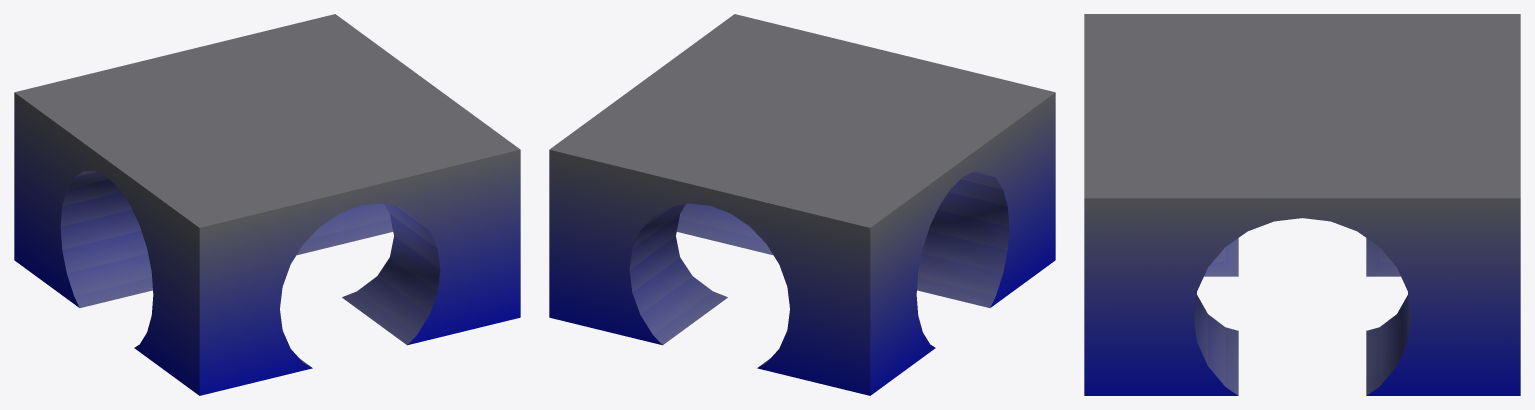
Rendered from FourWayHallway.dae.
3 renders of one model, left to right at view 1: azimuth 30°, elevation 25°; view 2: azimuth 150°, elevation 25°; view 3: azimuth 270°, elevation 25°, orthographic. The views are drawn at different scales.
Visible parts, largest first — view 1: SketchUp (×2); view 2: SketchUp (×2); view 3: SketchUp (×2).
Part boxes in pixels (x1=…): SketchUp (×2): x1=14, y1=14, x2=520, y2=395; SketchUp (×2): x1=549, y1=14, x2=1055, y2=395; SketchUp (×2): x1=1084, y1=14, x2=1520, y2=395.
Size of the model in its own units: 787 by 787 by 394.
Materials: 3 (1 with a texture image).
